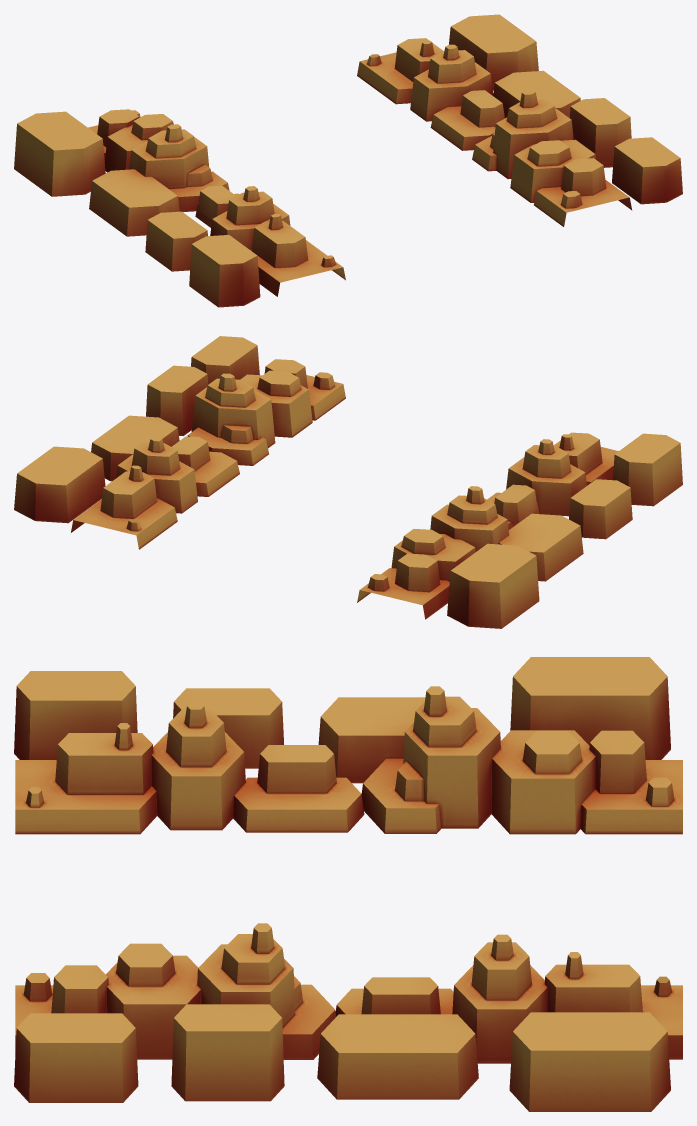
File: desert_rocks.FBX
The picture shows the model from 3 angles, top to bottom: view 1: azimuth 30°, elevation 25°; view 2: azimuth 150°, elevation 25°; view 3: azimuth 270°, elevation 25°; orthographic projection. The views are drawn at different scales.
Visible parts, largest first — view 1: desert_rocks; view 2: desert_rocks; view 3: desert_rocks.
Boxes of the visible parts, x1,y1,x2,y2 form: desert_rocks: (14, 14, 682, 307); desert_rocks: (14, 336, 682, 628); desert_rocks: (14, 657, 682, 1111).
Size of the model in its own units: 27198 by 3660 by 20037.
